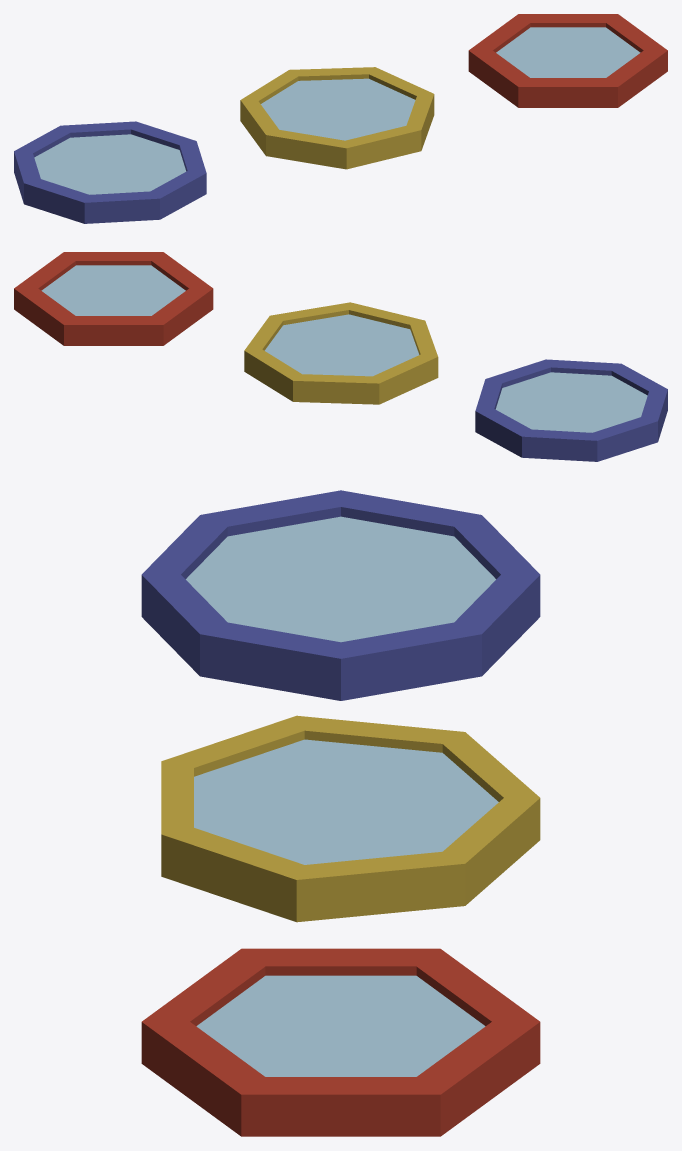
File: CUDI Coins.fbx
3 renders of one model, top to bottom at view 1: azimuth 30°, elevation 25°; view 2: azimuth 150°, elevation 25°; view 3: azimuth 270°, elevation 25°, orthographic. The views are drawn at different scales.
Visible parts, largest first — view 1: 10coin, 5coin, 1coin; view 2: 10coin, 5coin, 1coin; view 3: 10coin, 5coin, 1coin.
Boxes of the visible parts, left/top/right/bottom form: 10coin: left=14, top=121, right=206, bottom=223; 5coin: left=240, top=67, right=434, bottom=169; 1coin: left=468, top=14, right=667, bottom=107; 10coin: left=475, top=359, right=667, bottom=461; 5coin: left=244, top=302, right=438, bottom=404; 1coin: left=14, top=252, right=213, bottom=345; 10coin: left=141, top=490, right=540, bottom=700; 5coin: left=161, top=715, right=540, bottom=922; 1coin: left=141, top=948, right=540, bottom=1136.
Bounding box in the file's own units: 717 × 23.39 × 200.
